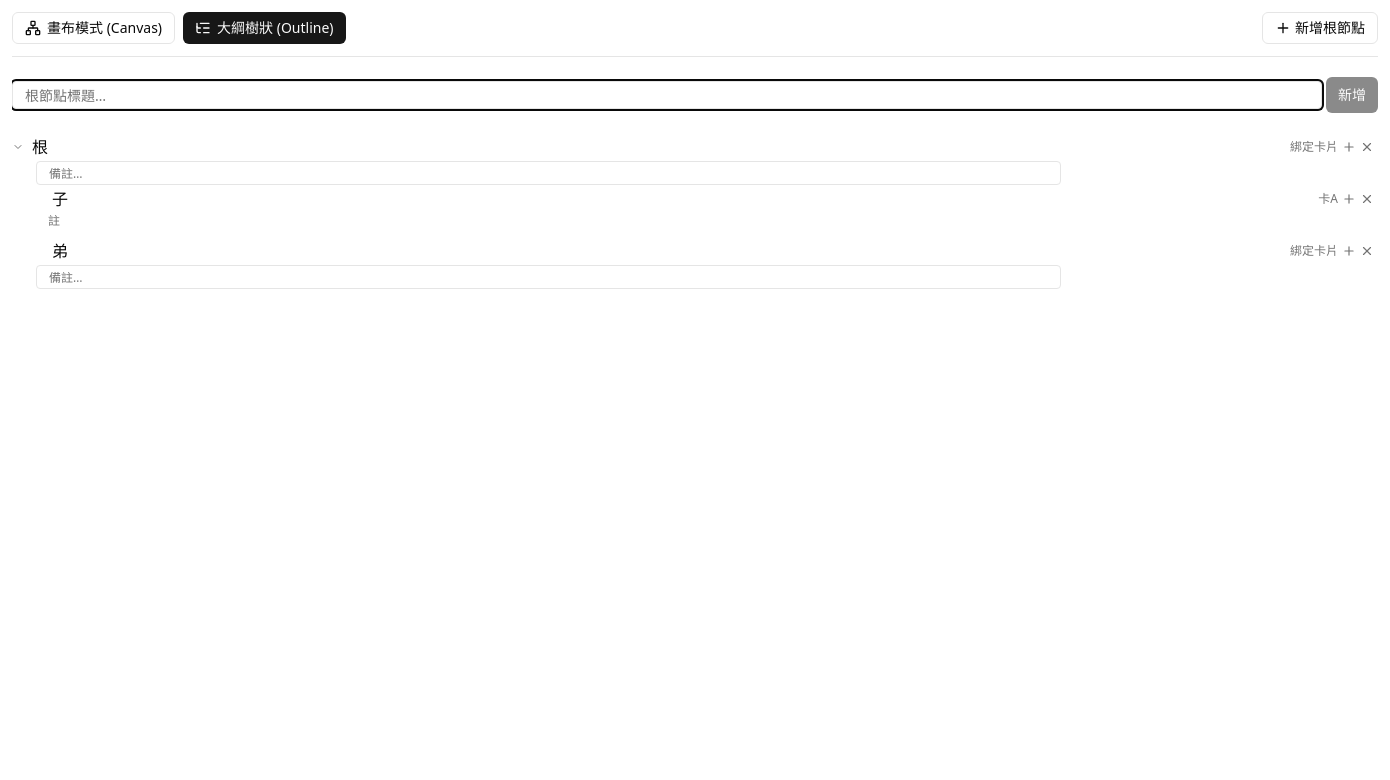
Test: MindMapTab 卡片庫抽屜的截斷提示 › total 等於已載入筆數時不顯示提示
Click the button "畫布模式 (Canvas)".
click(94, 28)  # box [12,12,175,44]
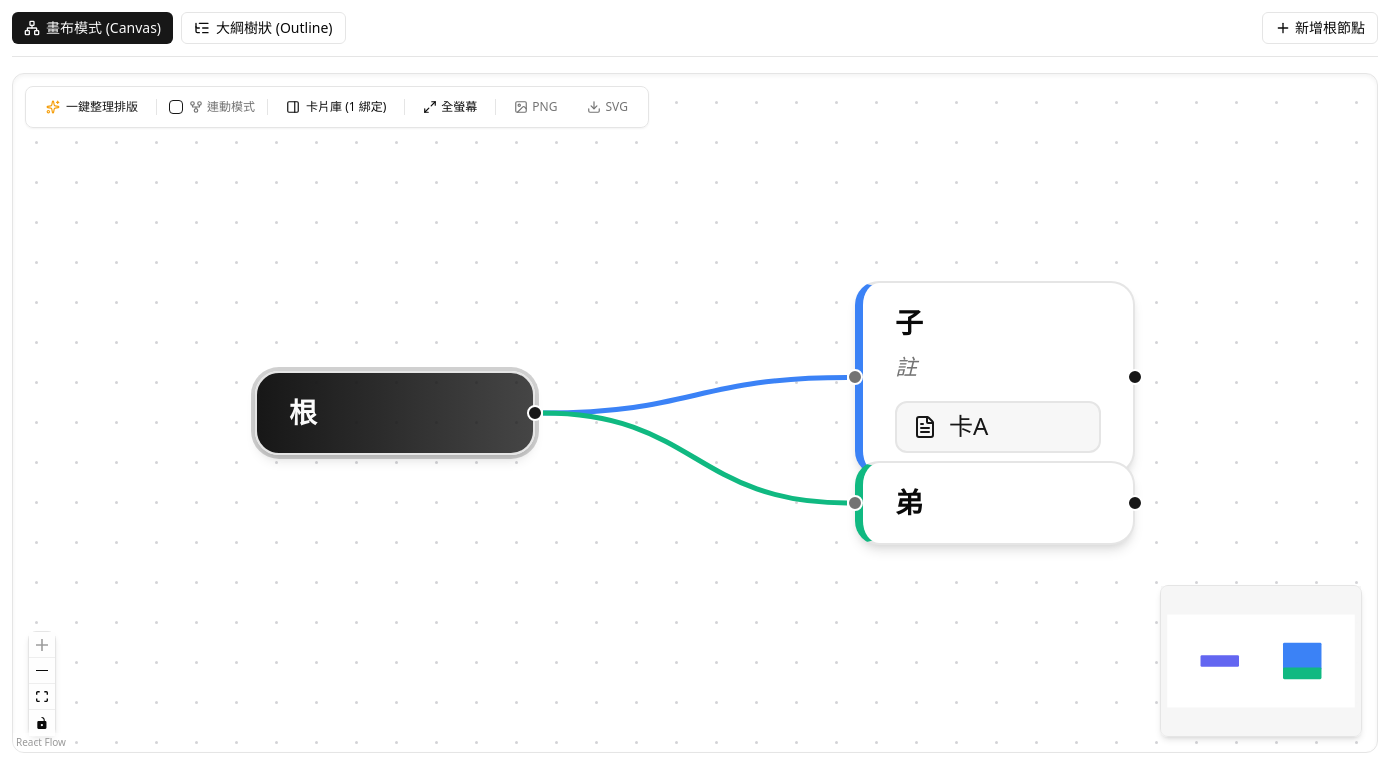
Click the button "卡片庫 (1 綁定)".
click(336, 107)  # box [274,93,398,121]
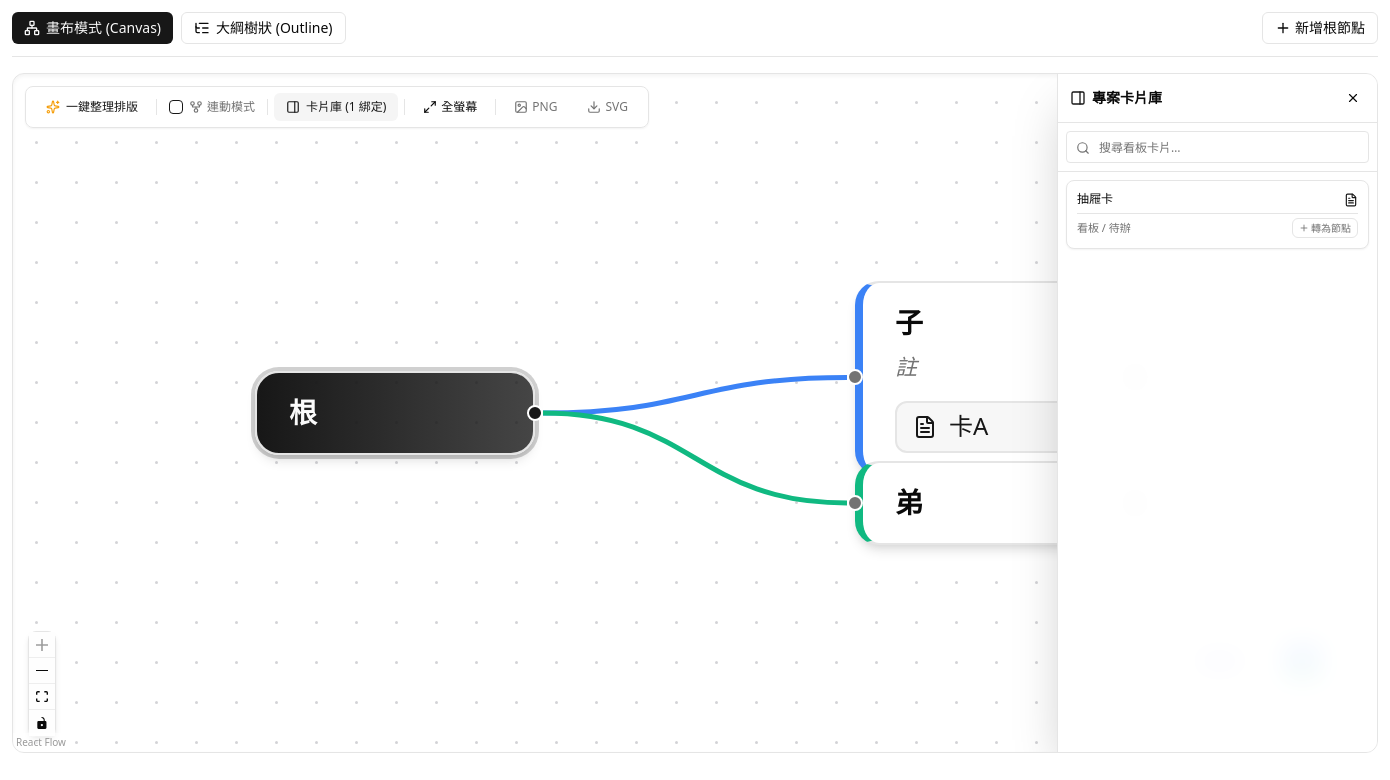
Now the field with placeholder "搜尋看板卡片…" is shown, box [1066,131,1369,163]
Now the text "抽屜卡" is shown, box [1077,191,1113,207]
